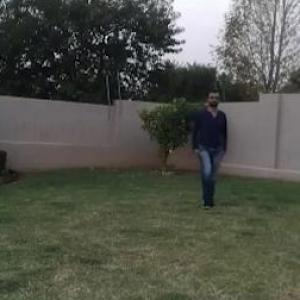follow: (190, 89, 230, 212)
